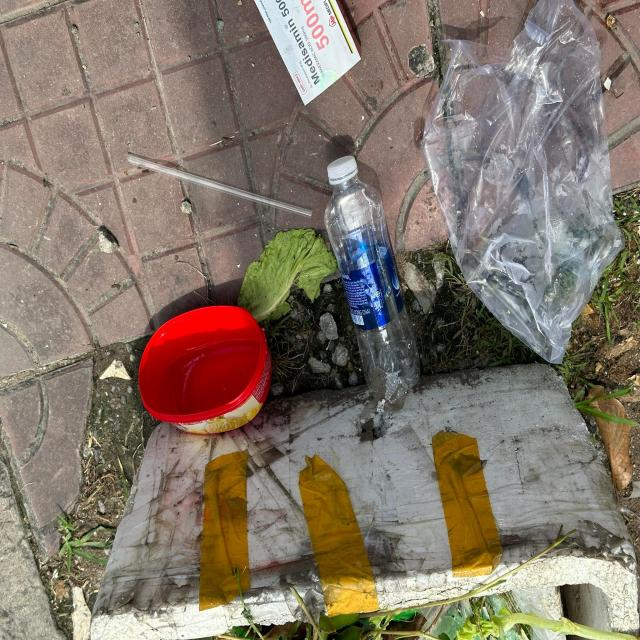bag: (421, 0, 627, 366)
bottle: (324, 155, 422, 404)
cardboard box: (254, 0, 363, 107)
drinking straw: (125, 154, 313, 218)
plastic holder: (137, 305, 272, 435)
